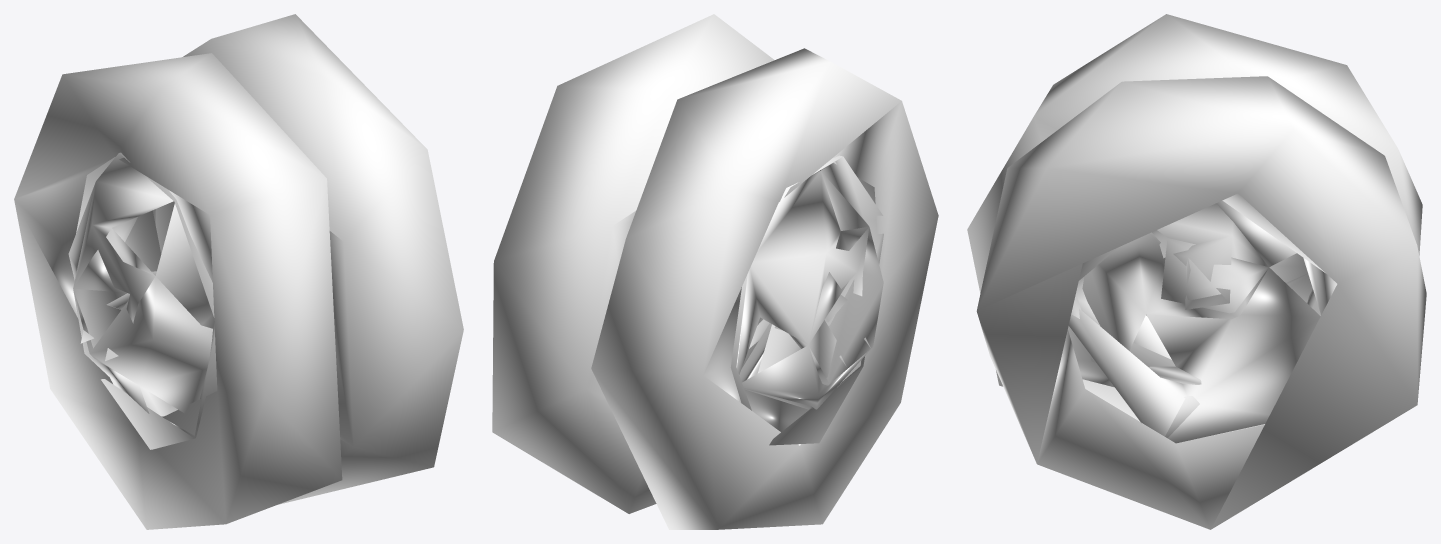
3 views of the same model, side by side, from view 1: azimuth 30°, elevation 25°; view 2: azimuth 150°, elevation 25°; view 3: azimuth 270°, elevation 25° (orthographic). The views are drawn at different scales.
Bounding box in the file's own units: 0.6283 × 1.05 × 1.04.
Materials: 1 (1 with a texture image).
